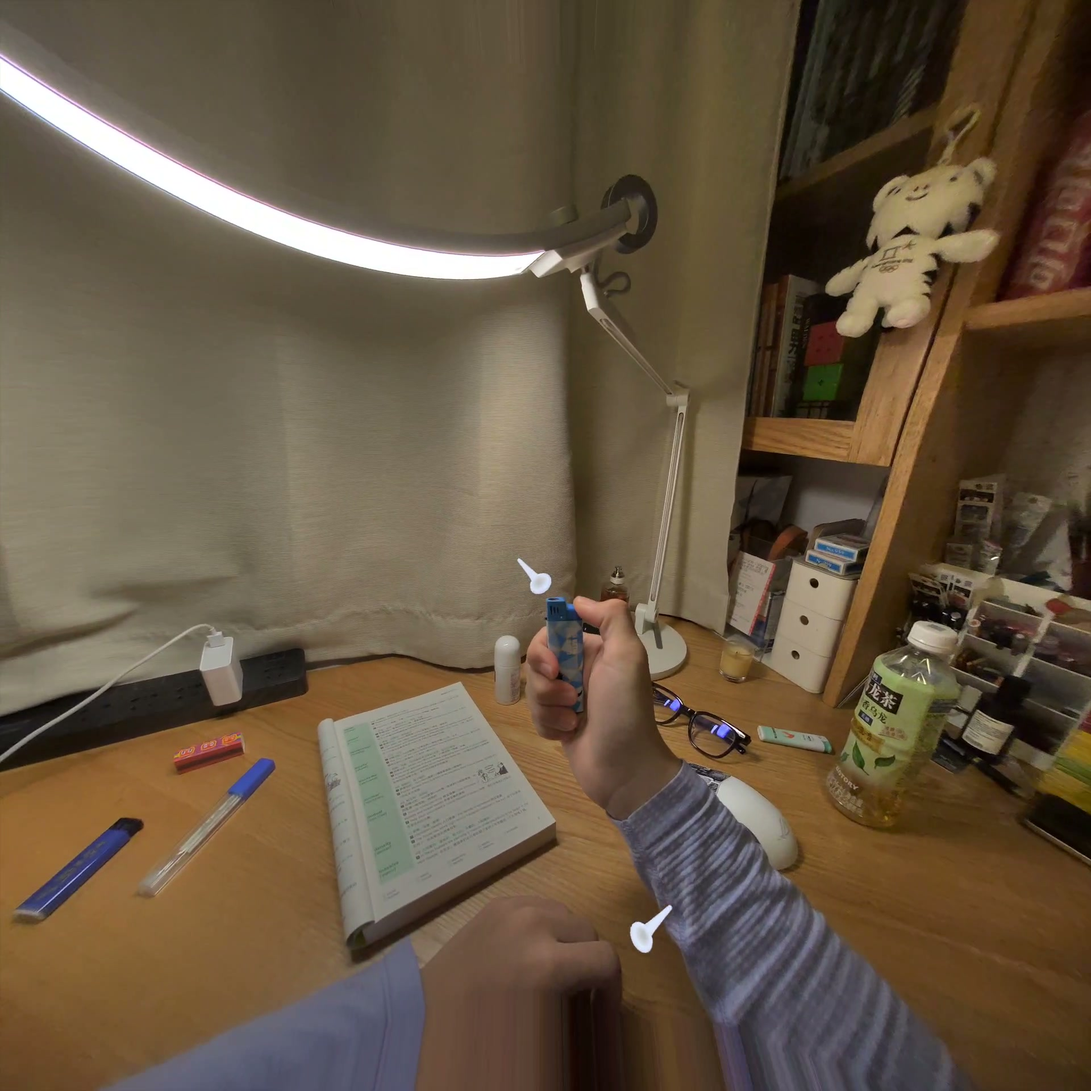lighter: (547, 597, 584, 713)
